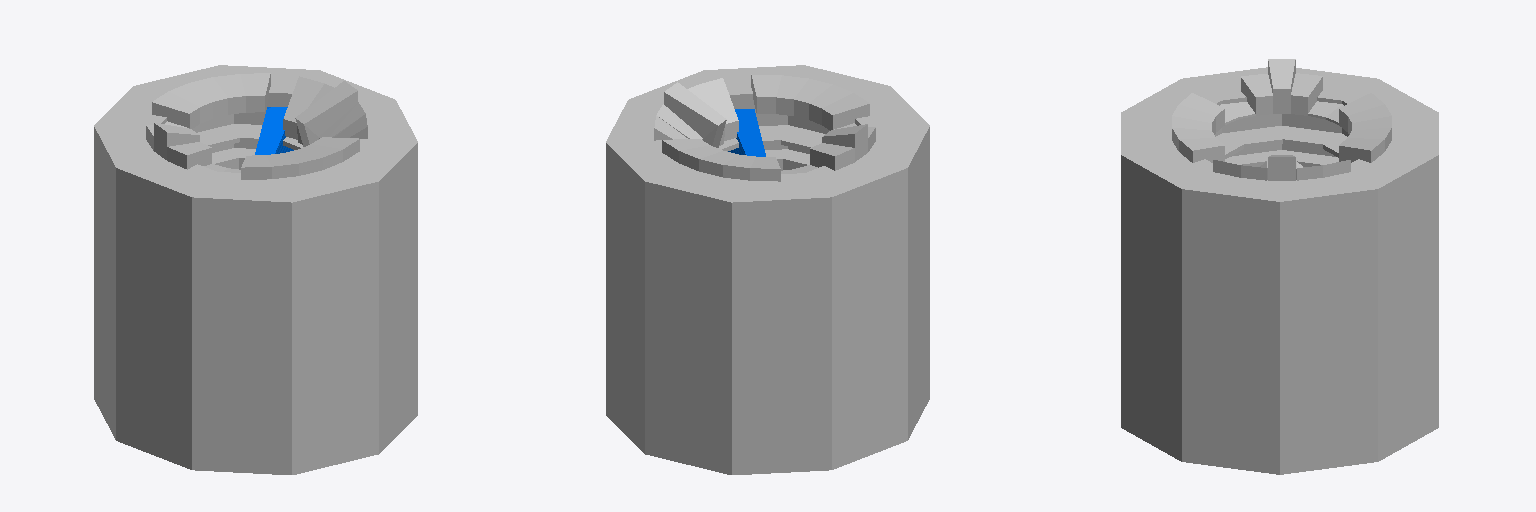
The picture shows the model from 3 angles: view 1: azimuth 30°, elevation 25°; view 2: azimuth 150°, elevation 25°; view 3: azimuth 270°, elevation 25°; orthographic projection.
Visible parts, largest first — view 1: entity4_brush1, entity4_brush3, entity4_brush5, entity4_brush0, entity0_brush18, entity4_brush4, entity0_brush7, entity0_brush24, entity0_brush22, entity4_brush7, entity4_brush2, entity4_brush6 (+13 smaller); view 2: entity4_brush1, entity4_brush4, entity4_brush2, entity4_brush0, entity0_brush18, entity4_brush5, entity4_brush3, entity0_brush14, entity0_brush16, entity0_brush23, entity0_brush10, entity0_brush21 (+13 smaller); view 3: entity4_brush0, entity4_brush2, entity4_brush1, entity4_brush3, entity4_brush5, entity4_brush4, entity3_brush1, entity4_brush7, entity0_brush11, entity0_brush10, entity0_brush12, entity0_brush21 (+7 smaller).
Part boxes in pixels (left/top/right/bottom): entity4_brush1: left=94, top=86, right=193, bottom=469; entity4_brush3: left=178, top=164, right=294, bottom=474; entity4_brush5: left=293, top=147, right=378, bottom=474; entity4_brush0: left=320, top=70, right=417, bottom=453; entity0_brush18: left=295, top=81, right=357, bottom=146; entity4_brush4: left=135, top=65, right=219, bottom=123; entity0_brush7: left=152, top=91, right=199, bottom=128; entity0_brush24: left=255, top=107, right=293, bottom=154; entity0_brush22: left=283, top=76, right=324, bottom=139; entity4_brush7: left=208, top=65, right=292, bottom=148; entity4_brush2: left=222, top=65, right=327, bottom=92; entity4_brush6: left=219, top=172, right=315, bottom=200; entity4_brush1: left=730, top=125, right=929, bottom=474; entity4_brush4: left=645, top=173, right=803, bottom=474; entity4_brush2: left=606, top=123, right=661, bottom=453; entity4_brush0: left=606, top=65, right=802, bottom=141; entity0_brush18: left=664, top=82, right=726, bottom=147; entity4_brush5: left=729, top=65, right=887, bottom=149; entity4_brush3: left=868, top=86, right=928, bottom=146; entity0_brush14: left=822, top=93, right=869, bottom=130; entity0_brush16: left=698, top=78, right=738, bottom=140; entity0_brush23: left=728, top=109, right=765, bottom=156; entity0_brush10: left=810, top=143, right=854, bottom=170; entity0_brush21: left=751, top=74, right=781, bottom=113; entity4_brush0: left=1121, top=155, right=1377, bottom=474; entity4_brush2: left=1308, top=156, right=1437, bottom=461; entity4_brush1: left=1183, top=67, right=1438, bottom=156; entity4_brush3: left=1121, top=79, right=1281, bottom=156; entity4_brush5: left=1121, top=114, right=1212, bottom=166; entity4_brush4: left=1342, top=101, right=1438, bottom=154; entity3_brush1: left=1232, top=126, right=1347, bottom=148; entity4_brush7: left=1351, top=135, right=1438, bottom=427; entity0_brush11: left=1268, top=59, right=1295, bottom=113; entity0_brush10: left=1291, top=73, right=1322, bottom=115; entity0_brush12: left=1241, top=74, right=1272, bottom=115; entity0_brush21: left=1179, top=138, right=1224, bottom=162.
Bounding box in the file's own units: 13427 × 13835 × 13228.
6 materials, 1 textured.